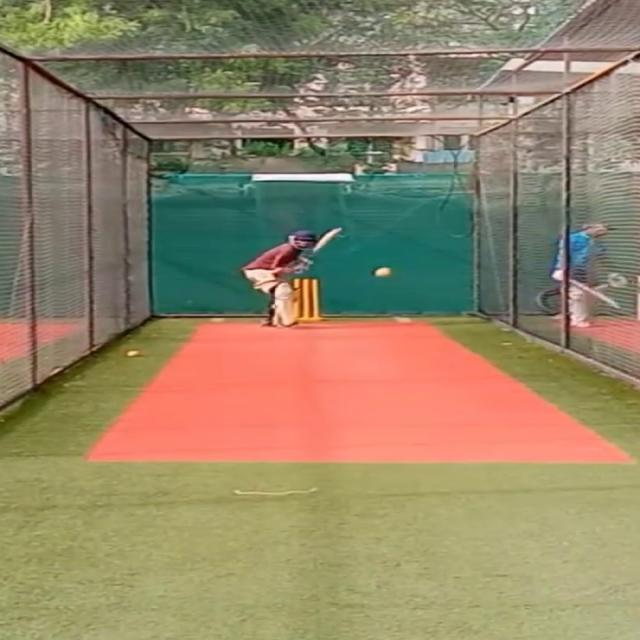ball: (374, 265, 394, 278), (126, 349, 144, 359)
stump: (296, 278, 322, 324)
